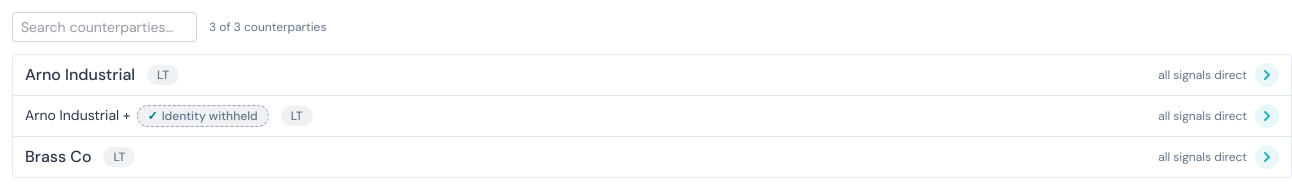
Test: <CounterpartiesGrid> › a redacted cluster is findable by typing its parent tier-1 name (fix wave)
This screenshot has width=1292, height=195.
Expected: the text "3 of 3 counterparties" is shown, [209,19,326,35]
Type "Arno" into the search field with placeholder "Search counterparties…".
click(104, 27); type("Arno")  # box [12,12,197,42]
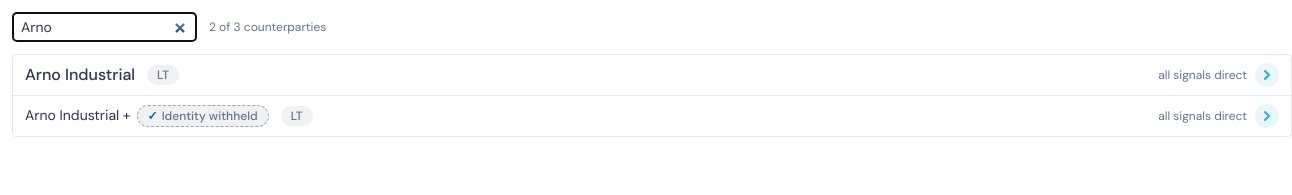
Expected: the text "Arno Industrial +" is shown, [25,105,131,125]
Result: the button "Brass Co" is gone
Result: the text "2 of 3 counterparties" is shown at [209,19,326,35]
